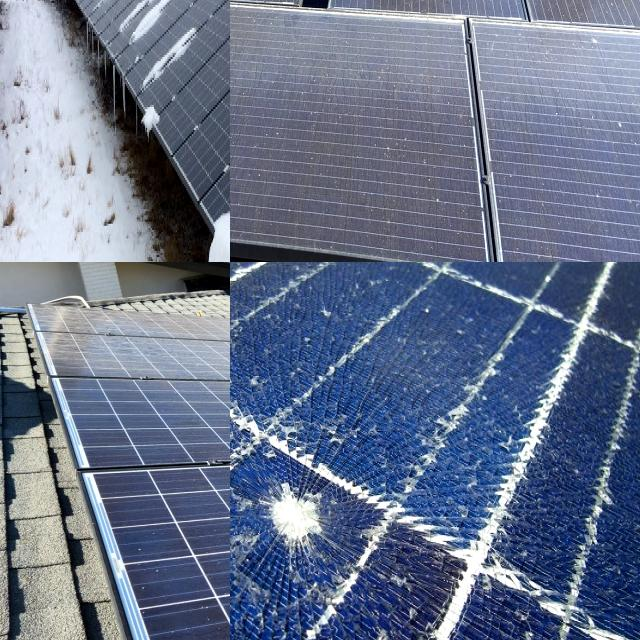dust: (230, 8, 449, 241), (489, 34, 637, 262), (510, 0, 639, 80), (360, 0, 492, 77), (230, 0, 313, 56), (230, 0, 274, 58)
hotspot: (251, 456, 355, 582)
panel: (138, 18, 204, 136), (109, 0, 202, 38), (202, 166, 230, 262)
